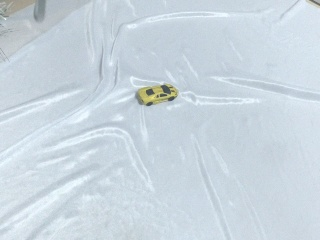toy_car: (136, 83, 179, 106)
